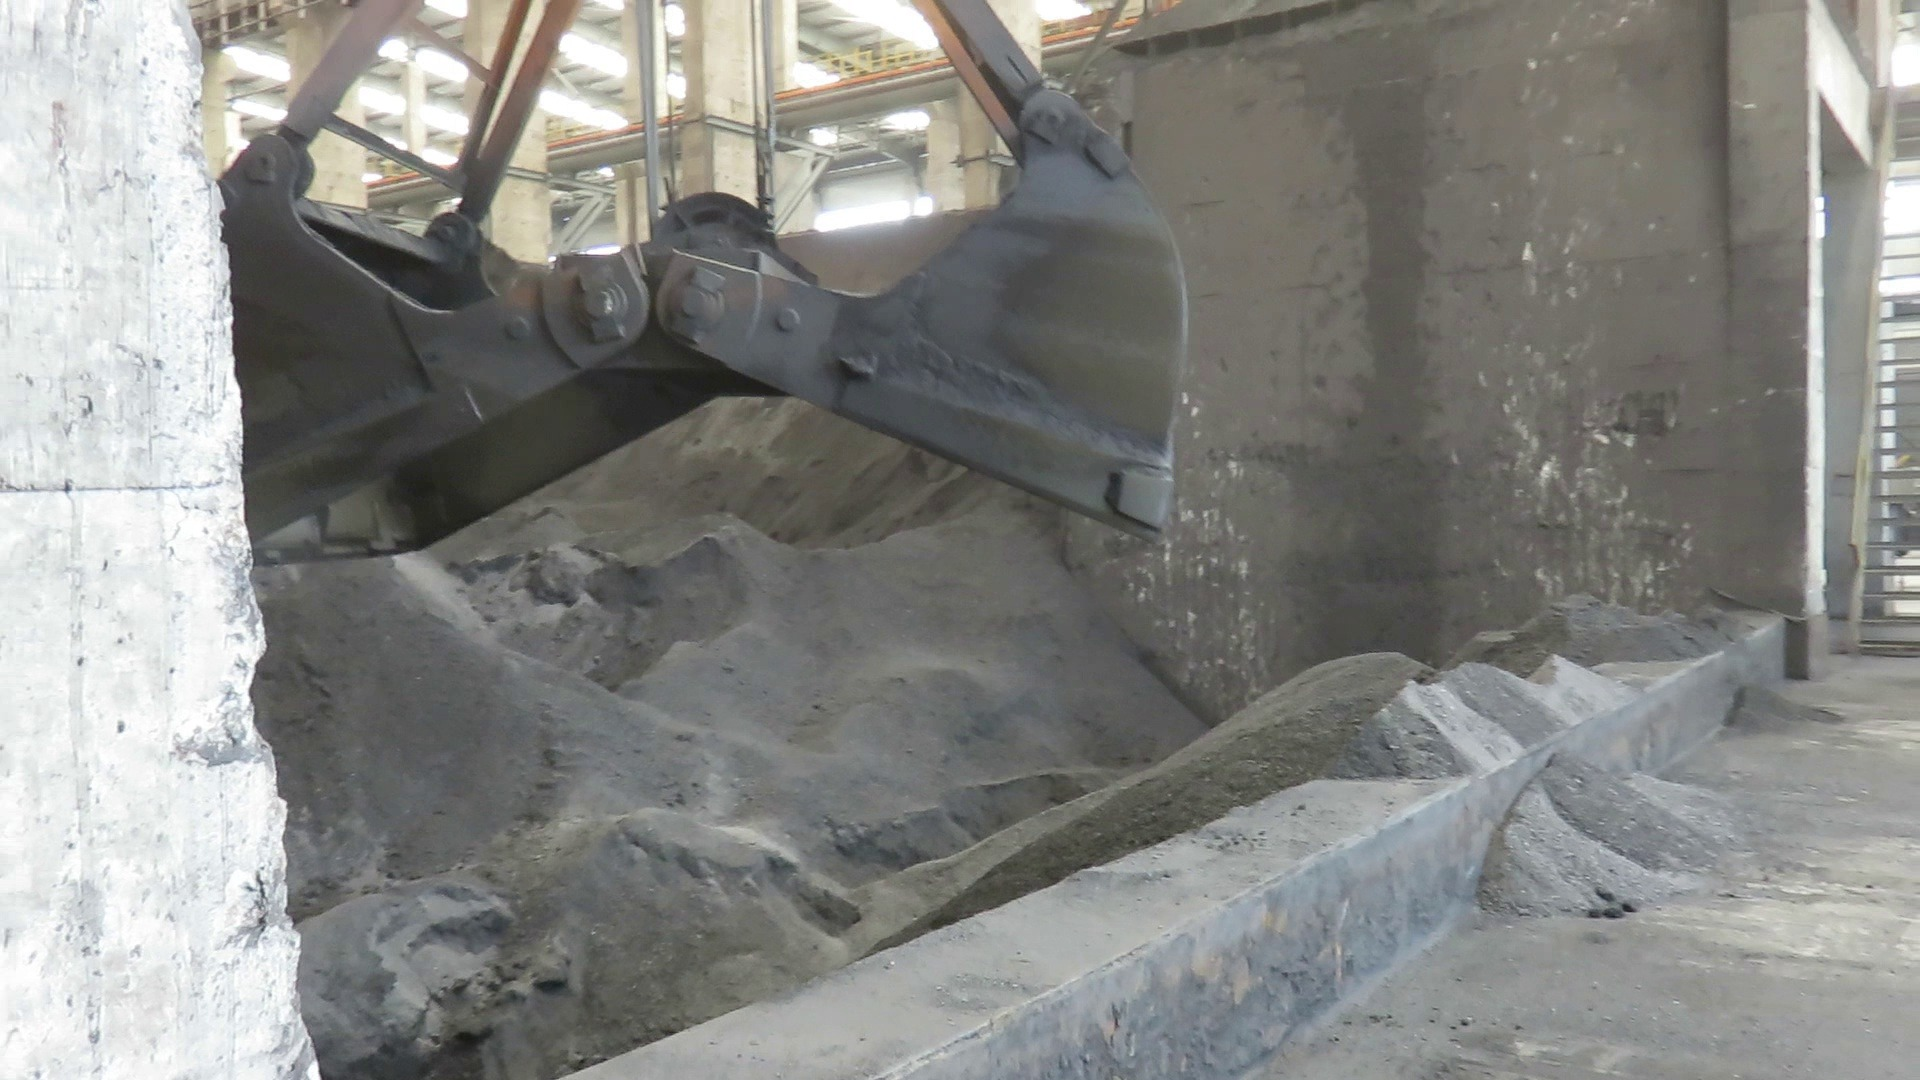grab: (208, 0, 1203, 560)
